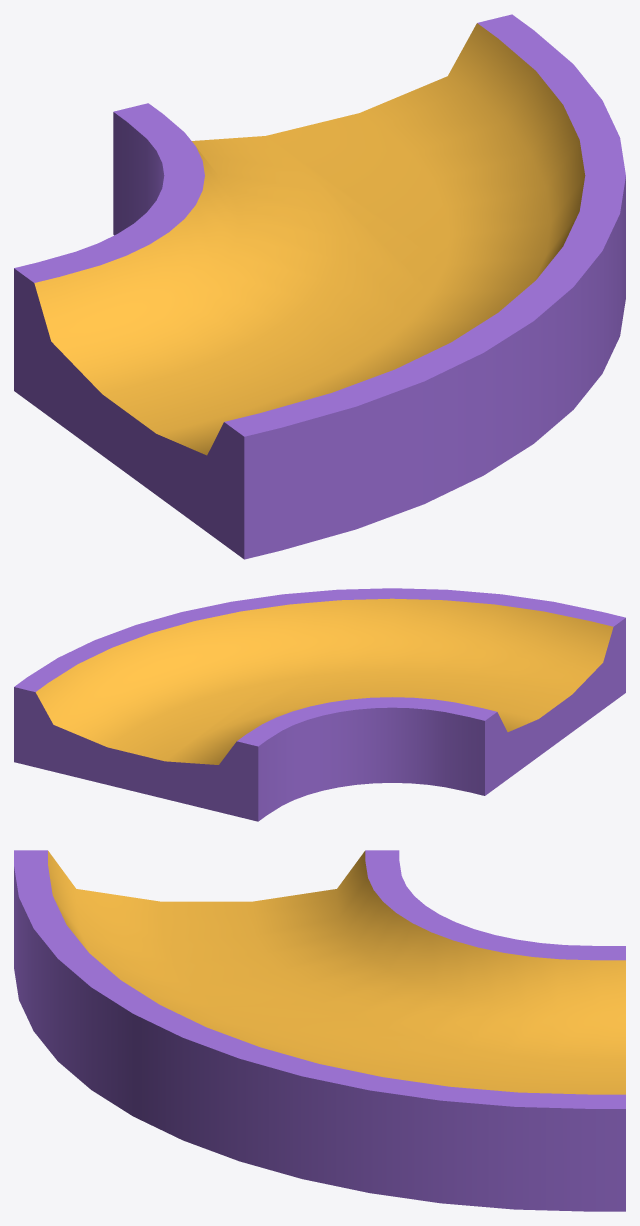
The model's file is curve-wide-medium-col.glb.
3 renders of one model, top to bottom at view 1: azimuth 30°, elevation 25°; view 2: azimuth 150°, elevation 25°; view 3: azimuth 270°, elevation 25°, orthographic. The views are drawn at different scales.
Parts seen in each view (by area): view 1: curve-wide-medium-col; view 2: curve-wide-medium-col; view 3: curve-wide-medium-col.
Part boxes in pixels (box(x1,y1,x2,y2)): curve-wide-medium-col: box(14, 14, 625, 559); curve-wide-medium-col: box(14, 588, 625, 821); curve-wide-medium-col: box(14, 850, 625, 1211).
Bounding box in the file's own units: 2.7 × 0.5 × 2.7.
1 material, 1 textured.
